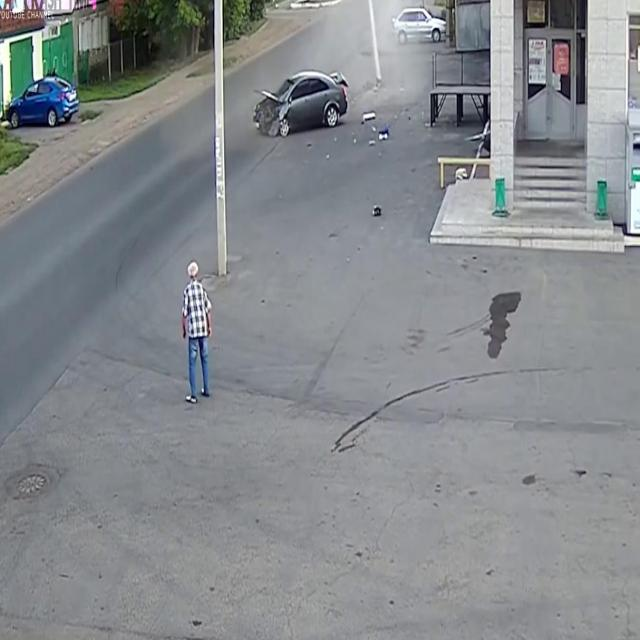accident: (246, 58, 391, 174)
